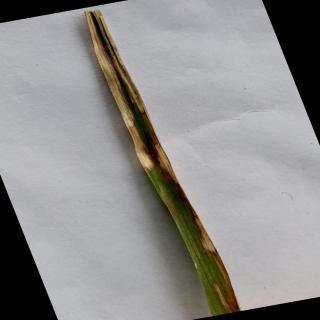Hawar-Daun: (82, 9, 179, 180), (208, 263, 244, 311), (194, 216, 223, 256)
